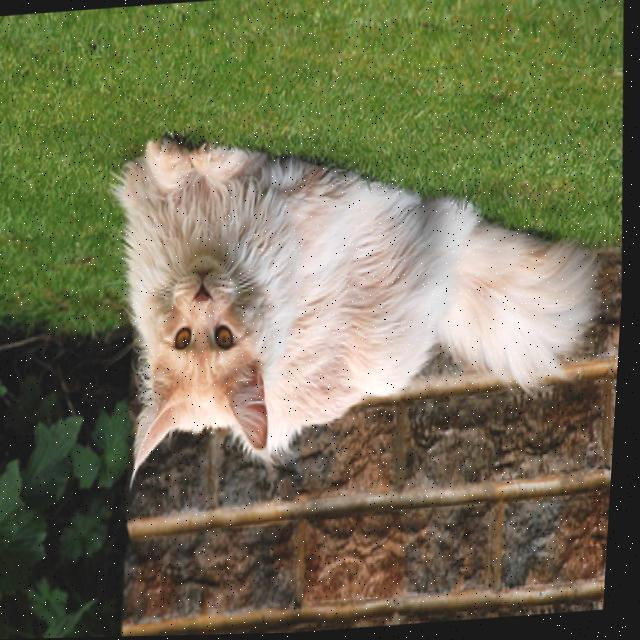Maine Coon: (96, 104, 630, 495)
